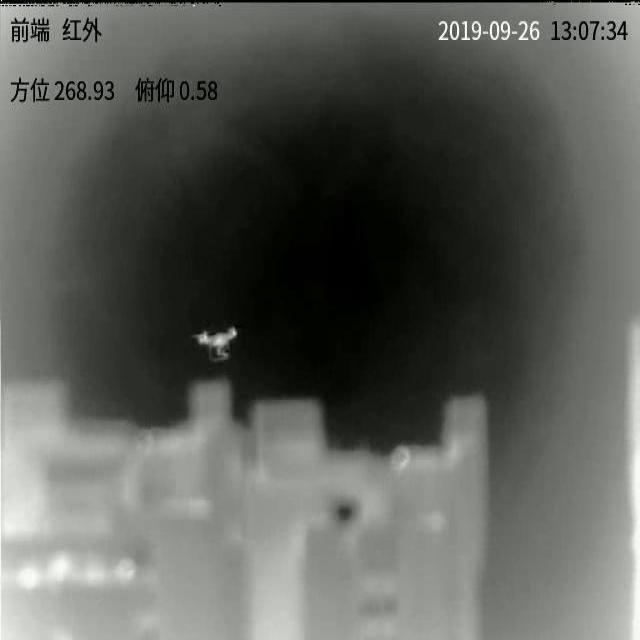drone: (191, 328, 237, 362)
